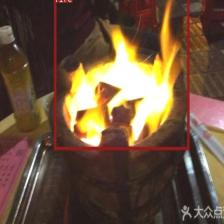fire: (54, 0, 189, 149)
